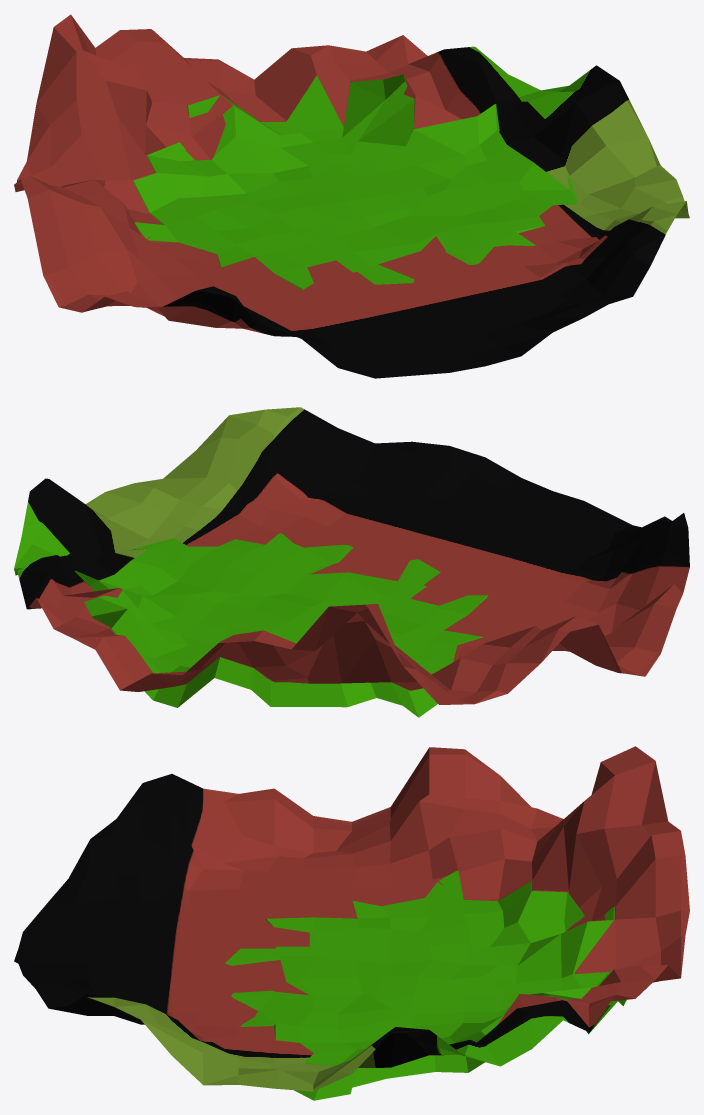
File: Mars-One_map_terraforming_03_2.FBX
3 views of the same model, one above another, from view 1: azimuth 30°, elevation 25°; view 2: azimuth 150°, elevation 25°; view 3: azimuth 270°, elevation 25° (orthographic).
Visible parts, largest first — view 1: Circle001; view 2: Circle001; view 3: Circle001.
Part boxes in pixels (bbox=[...]): Circle001: bbox=[14, 14, 689, 378]; Circle001: bbox=[14, 407, 689, 717]; Circle001: bbox=[14, 746, 689, 1100].
Size of the model in its own units: 413 by 109 by 414.
1 material, 1 textured.
